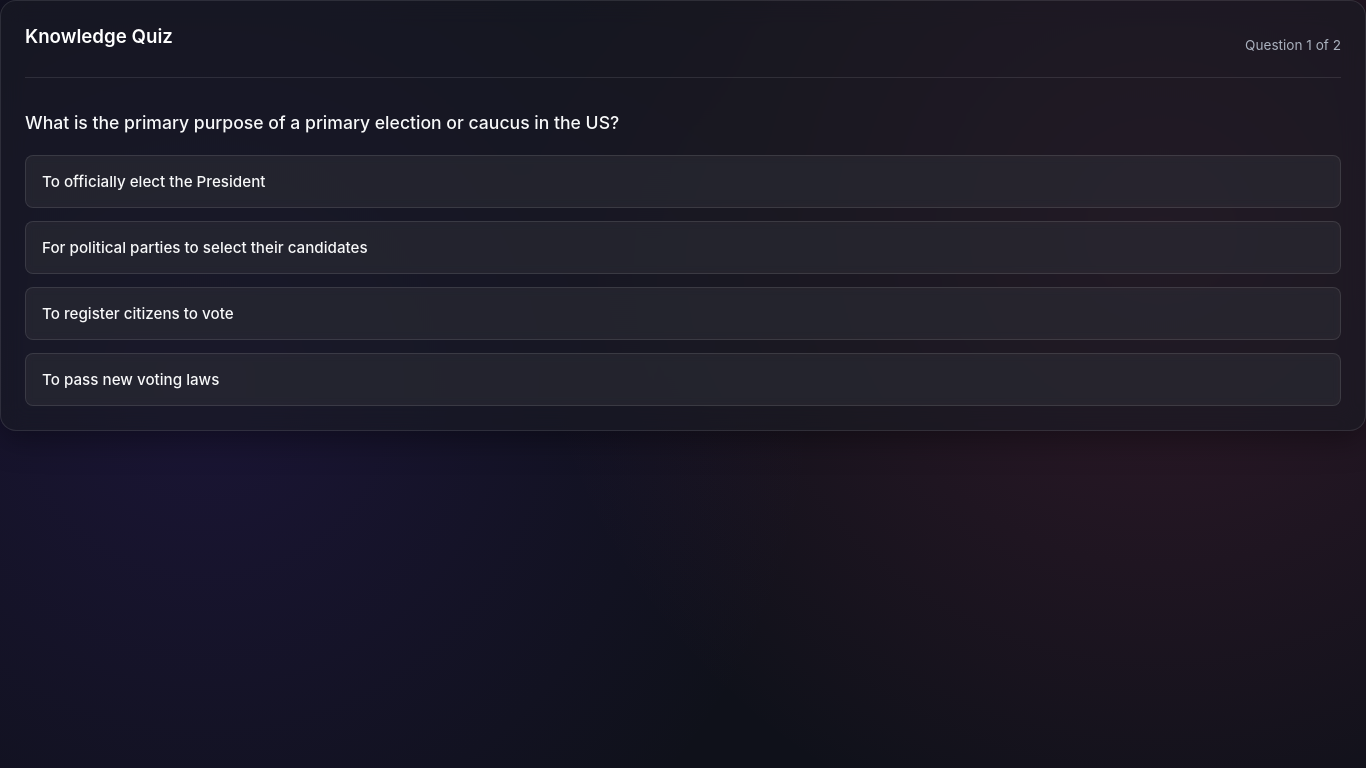
Test: QuizModule › allows selecting an option and checking the answer
The width and height of the screenshot is (1366, 768).
Click the button "For political parties to select their candidates" at {"x": 205, "y": 248}, box [25, 221, 1341, 274]
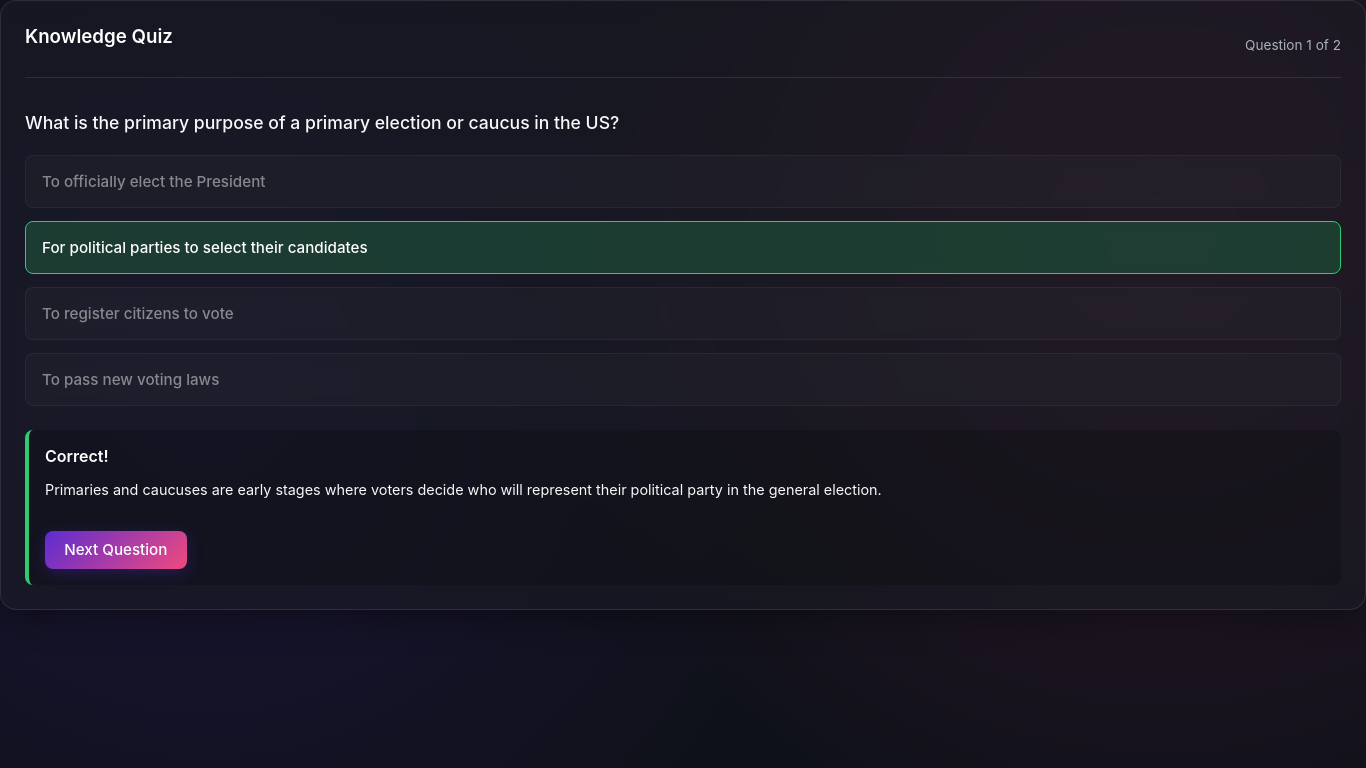
Now the heading "Correct!" is shown, box [45, 446, 109, 466]
